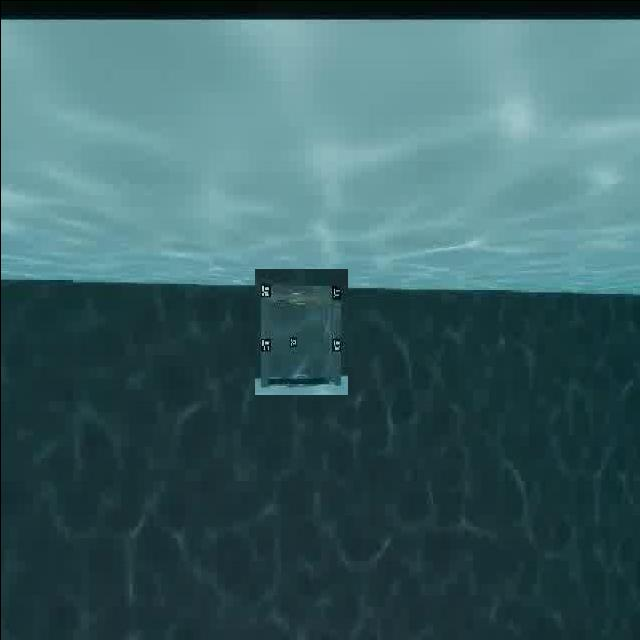Docking Station: (254, 268, 347, 394)
